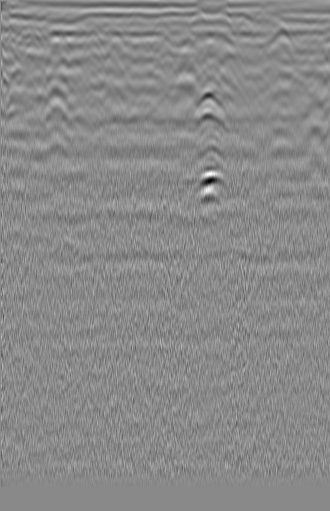가스: (189, 164, 233, 197)
상수: (262, 20, 296, 53)
오수: (11, 27, 47, 60)
우수: (154, 33, 177, 60)
